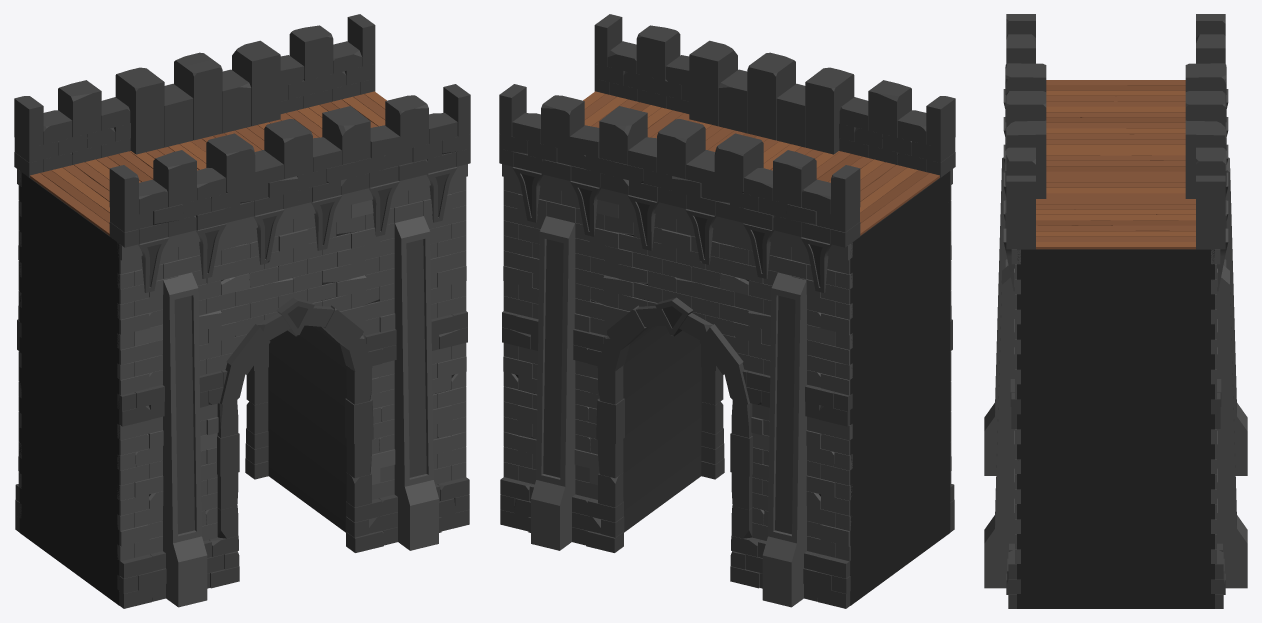
File: Wall_04.glb
3 renders of one model, left to right at view 1: azimuth 30°, elevation 25°; view 2: azimuth 150°, elevation 25°; view 3: azimuth 270°, elevation 25°, orthographic.
Visible parts, largest first — view 1: Wall_04_LOD0; view 2: Wall_04_LOD0; view 3: Wall_04_LOD0.
Part boxes in pixels (left/top/right/bottom): Wall_04_LOD0: left=14, top=14, right=470, bottom=608; Wall_04_LOD0: left=499, top=14, right=955, bottom=608; Wall_04_LOD0: left=984, top=14, right=1247, bottom=608.
Size of what is drawn, in the model's own units: 8 by 9.53 by 5.31.
1 material, 1 textured.
